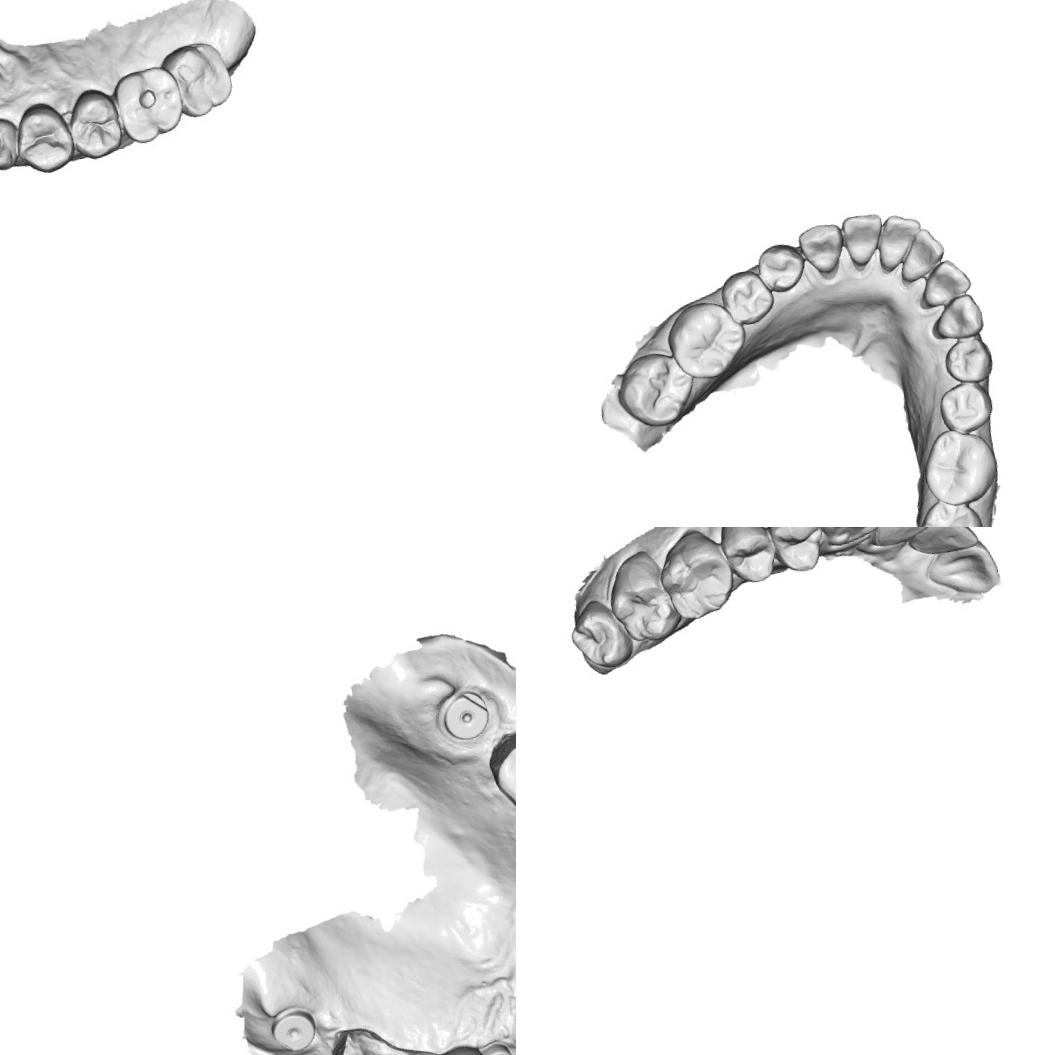canine: (926, 290, 986, 344), (794, 219, 848, 278), (812, 527, 890, 558), (0, 111, 21, 177)
implant: (436, 686, 494, 745), (266, 1001, 321, 1055), (481, 1037, 516, 1055)
incisor: (922, 538, 1000, 602), (871, 210, 928, 274), (892, 224, 948, 284), (914, 255, 973, 309), (837, 210, 889, 268), (905, 527, 976, 564), (867, 527, 940, 558)
molar: (660, 294, 752, 385), (610, 346, 701, 432), (915, 422, 1003, 510), (652, 534, 738, 618), (158, 36, 236, 124), (108, 60, 187, 146), (608, 554, 679, 646), (564, 594, 632, 676), (481, 712, 516, 825), (318, 1020, 407, 1055), (910, 493, 992, 527)
premolar: (12, 100, 76, 176), (64, 85, 125, 162), (935, 376, 996, 437), (718, 527, 779, 588), (715, 266, 775, 328), (761, 527, 829, 576), (752, 238, 810, 295), (939, 333, 995, 386)
